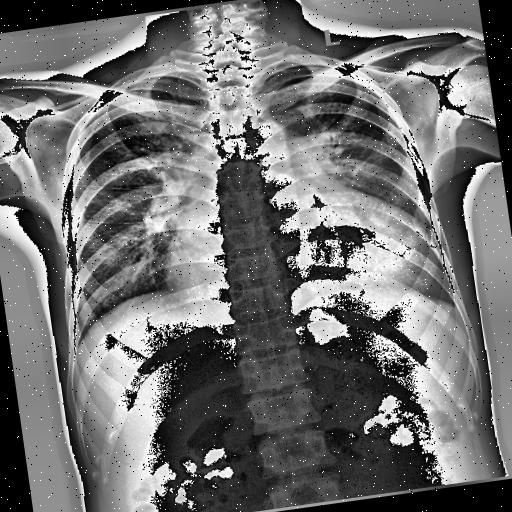0- Aortic enlargement: (242, 114, 314, 166)
13- Pulmonary fibrosis: (161, 198, 445, 330), (72, 172, 156, 205), (73, 205, 138, 233)
3- Cardiomegaly: (154, 181, 442, 331), (162, 196, 436, 318)
